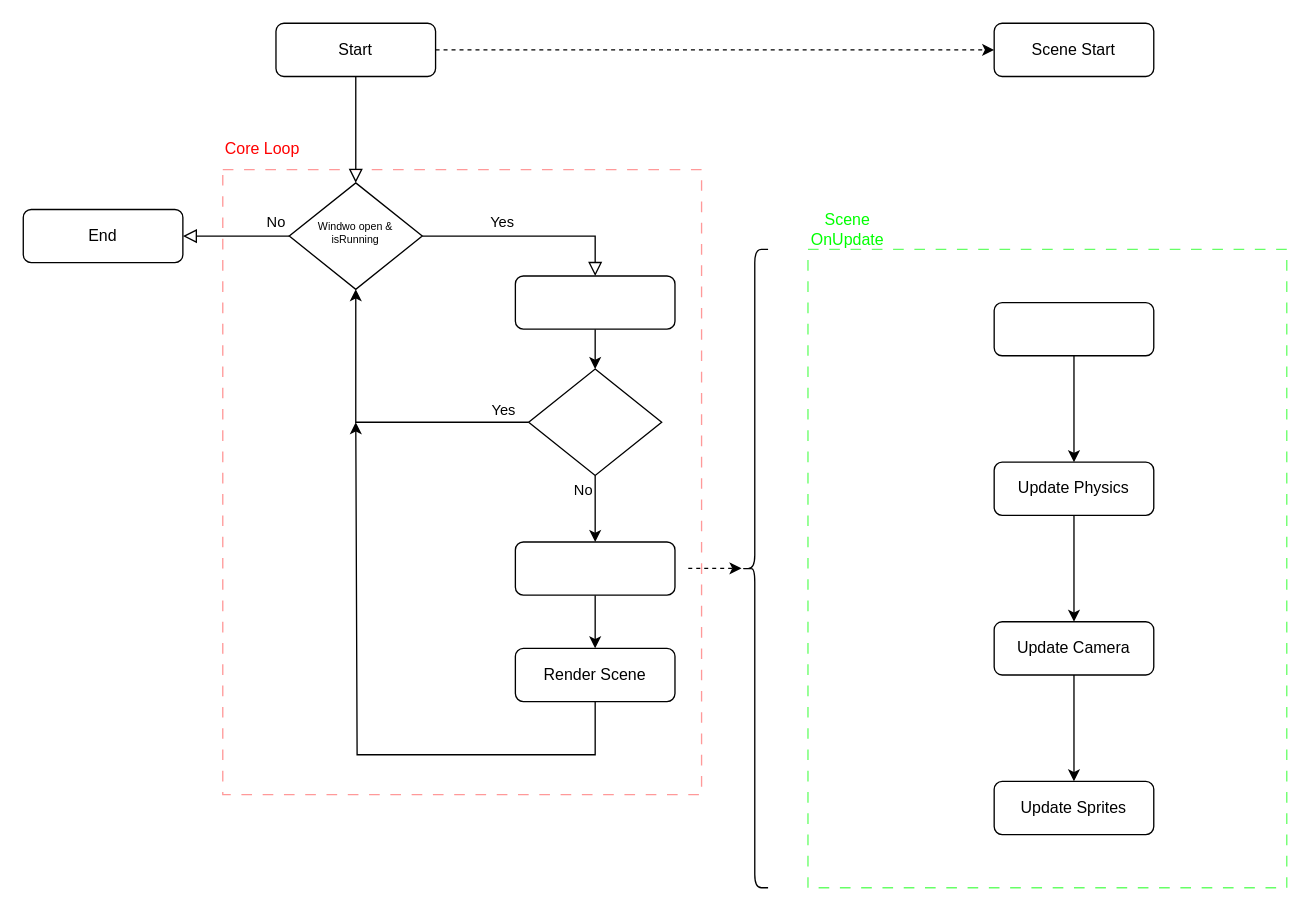
This 1310x911 diagram has some shape labels left out. The box of each missing label's shape, as (x1, y1, x2, y2) in pixels:
EventHandling: (514, 275, 675, 329)
isPaused: (527, 368, 662, 475)
Script Update (Native / Lua): (993, 301, 1154, 356)
Update Scene: (514, 541, 675, 595)
